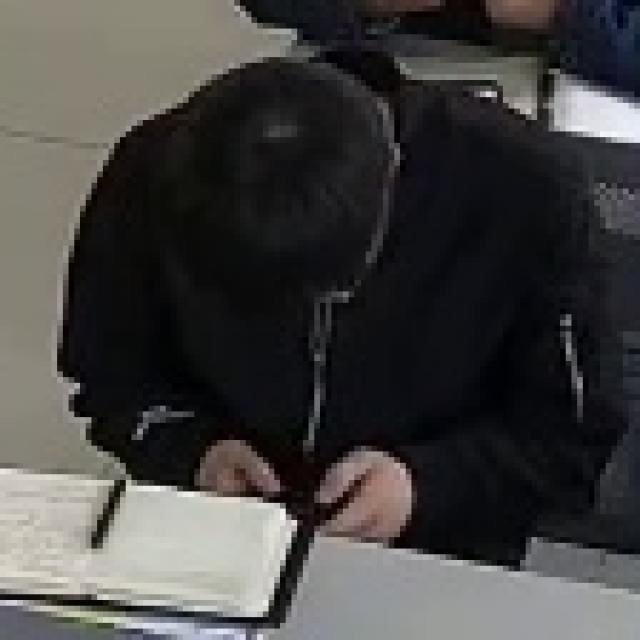phone: (56, 49, 612, 546)
